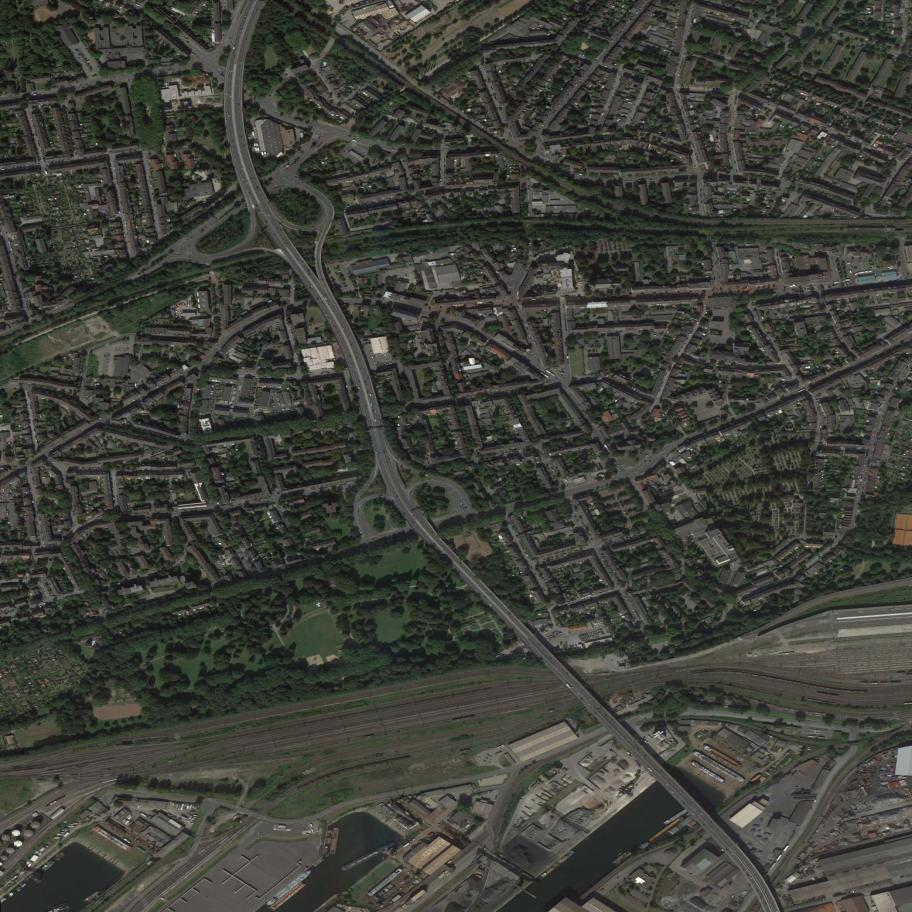ship: (265, 868, 312, 908), (339, 840, 397, 872), (692, 750, 746, 784), (538, 850, 575, 881), (269, 881, 306, 911), (690, 761, 727, 785), (662, 808, 689, 827), (612, 849, 630, 865), (330, 827, 340, 855), (82, 890, 101, 902), (53, 850, 66, 862), (42, 860, 55, 871), (312, 857, 325, 868)
storage-tank: (30, 821, 42, 829), (1, 834, 11, 841), (5, 847, 15, 853), (14, 841, 23, 847), (1, 855, 8, 861)
